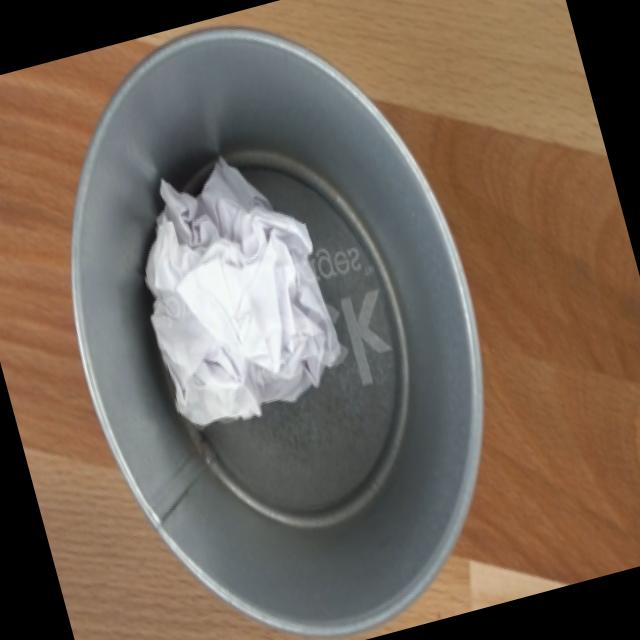KertasBekas: (112, 137, 354, 441)
